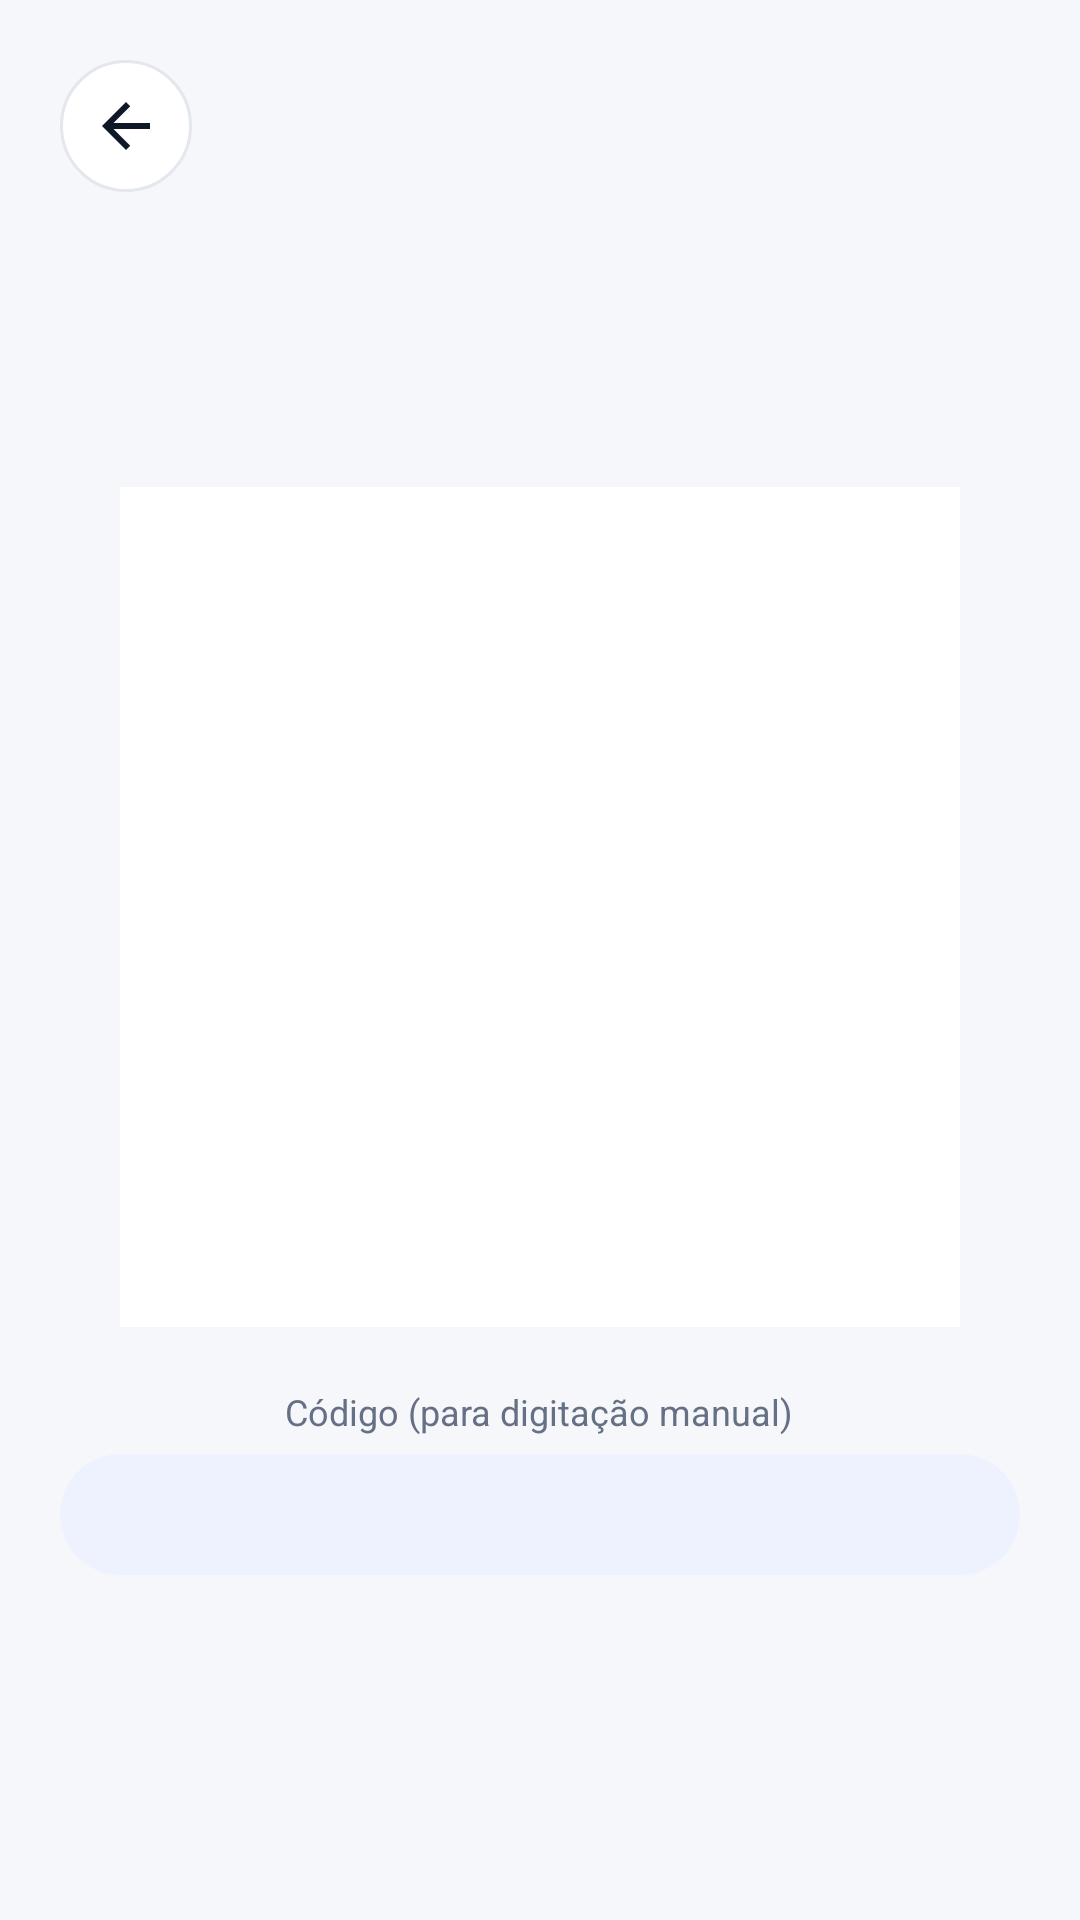

Named icons in this screenshot (1080×1920) and their centers, (x,y):
Voltar: (126,126)
